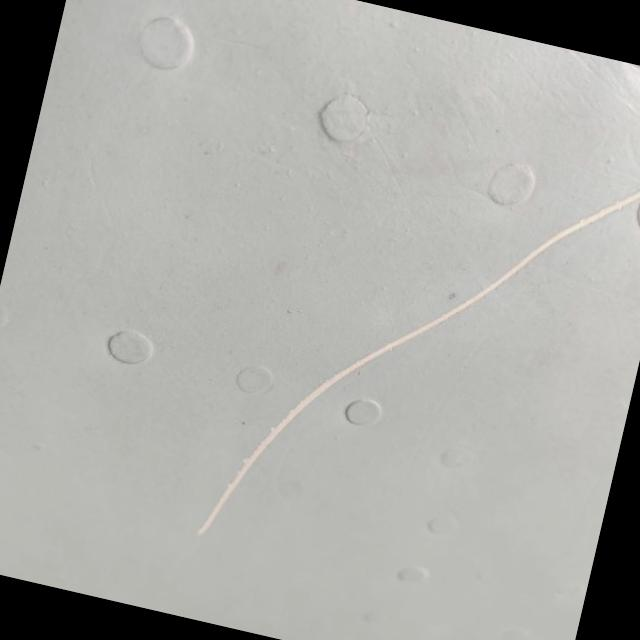scratch: (168, 86, 640, 640)
